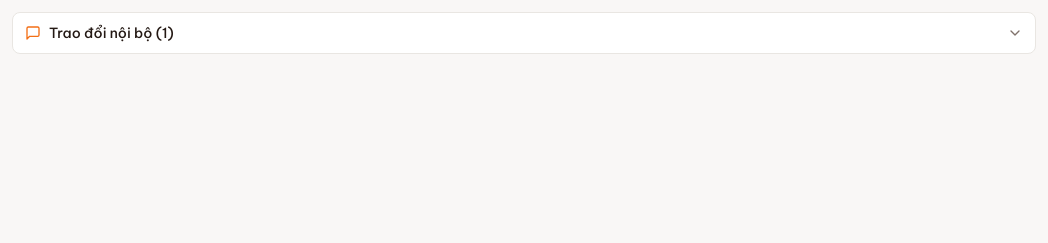
Test: InternalChat — header + load › hiển thị header với số tin nhắn và mở rộng khi click
Click the button "Trao đổi nội bộ (1)" at [105, 33], box [13,13,1035,53]
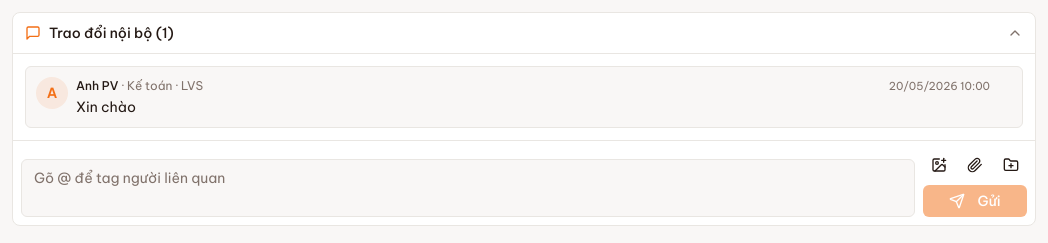
Check: the text "Xin chào" is shown, box [76,98,136,116]
